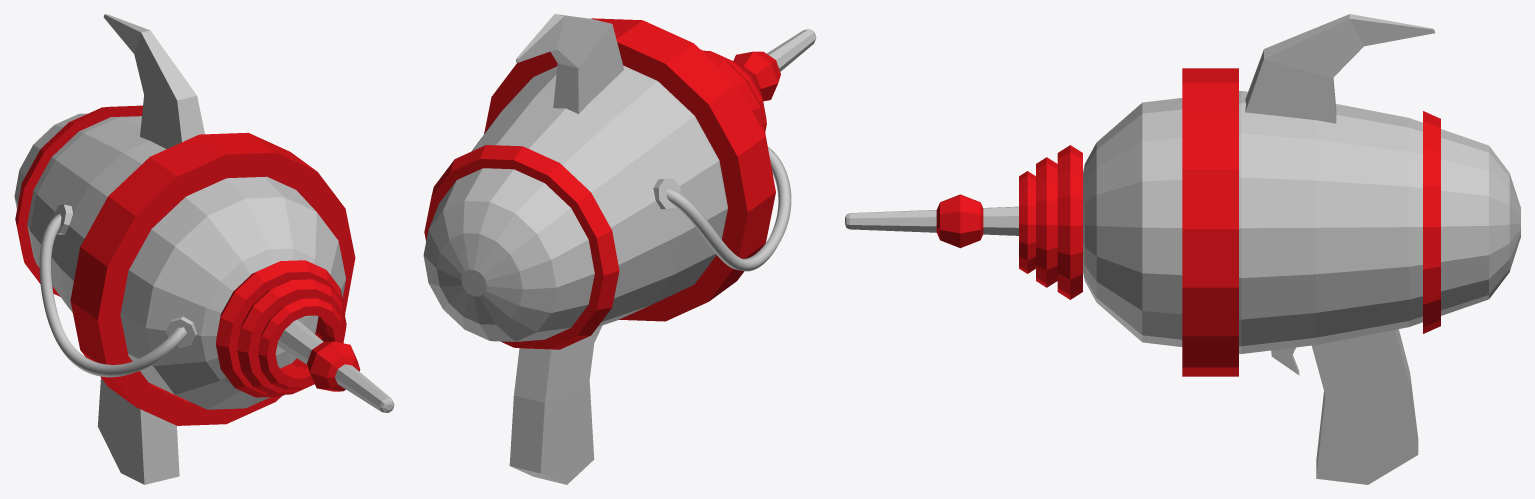
Rendered from lasergun.fbx.
The picture shows the model from 3 angles, left to right: view 1: azimuth 30°, elevation 25°; view 2: azimuth 150°, elevation 25°; view 3: azimuth 270°, elevation 25°; orthographic projection. The views are drawn at different scales.
Visible parts, largest first — view 1: NurbsPath.005; view 2: NurbsPath.005; view 3: NurbsPath.005.
Part boxes in pixels (box(x1,y1,x2,y2)): NurbsPath.005: box(14, 14, 394, 484); NurbsPath.005: box(423, 14, 816, 484); NurbsPath.005: box(845, 14, 1520, 484).
Size of the model in its own units: 53.2 by 85.43 by 114.
